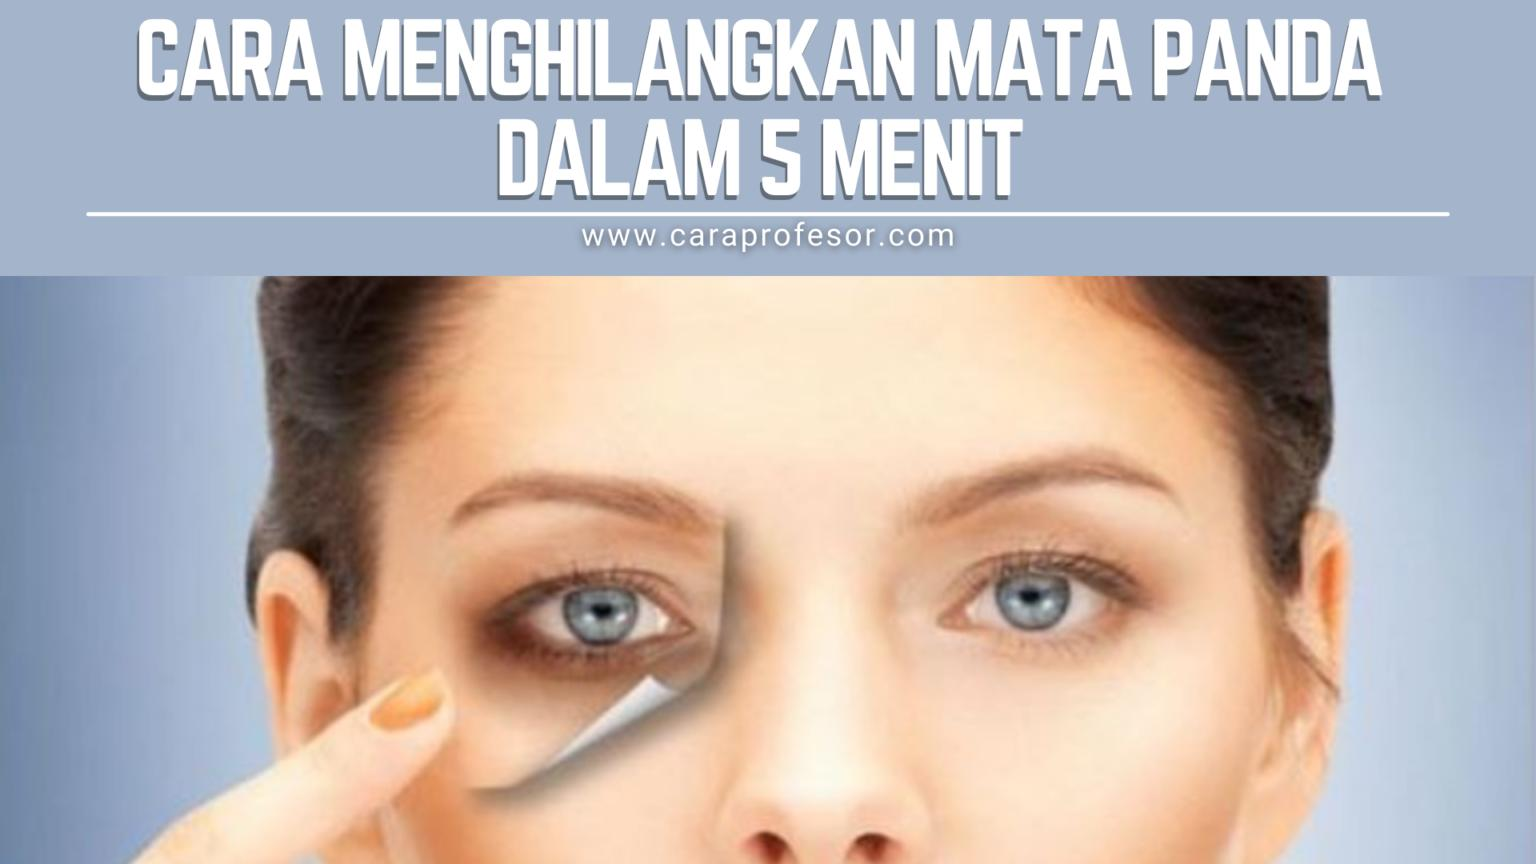Eyebags: (459, 607, 721, 688)
